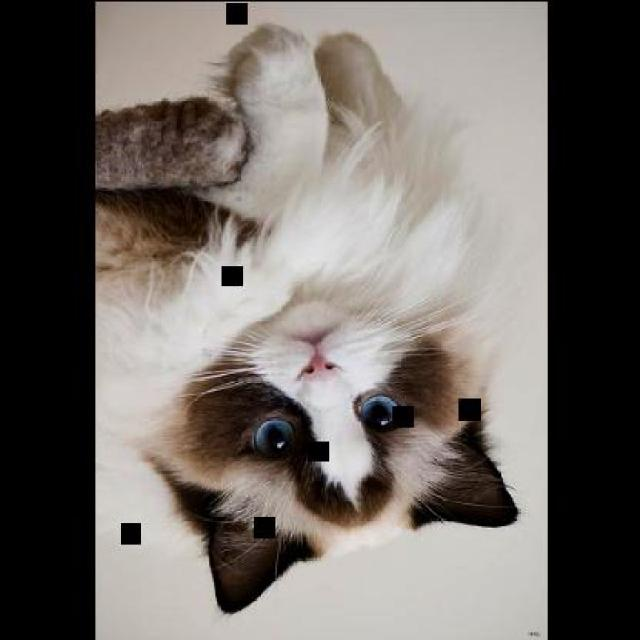unauthorized: (94, 21, 518, 614)
